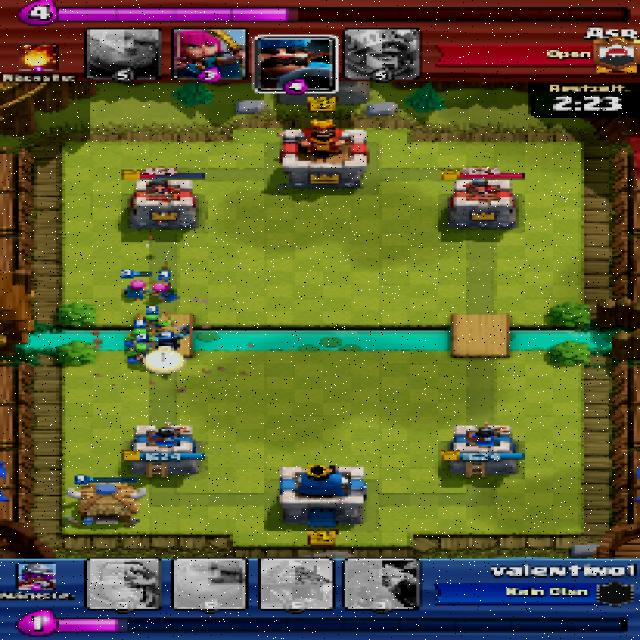Player-Archer: (147, 281, 174, 302), (122, 282, 148, 299)
Player-GoblinHut: (65, 483, 149, 528)
Player-MiniPEKKA: (151, 329, 187, 350)
Player-SpearGoblin: (133, 312, 174, 332), (123, 343, 151, 365), (123, 325, 151, 344)
